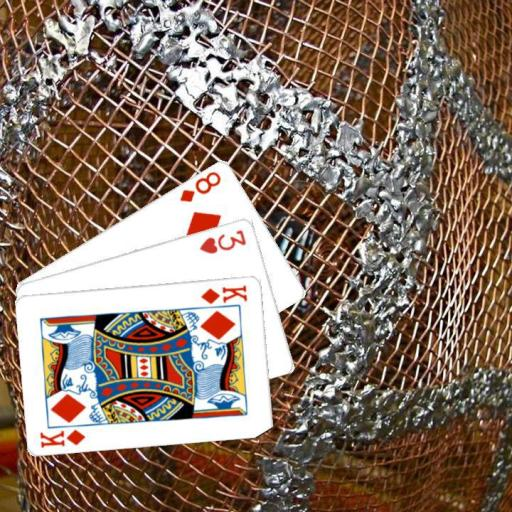3H: (196, 226, 248, 255)
8D: (177, 168, 223, 203)
KD: (198, 282, 250, 305), (37, 426, 87, 449)
